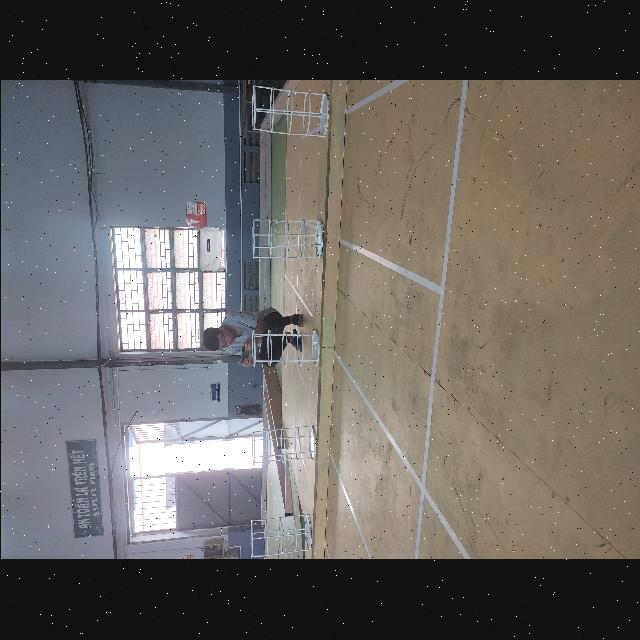S: (248, 85, 330, 139), (250, 218, 324, 260), (248, 514, 312, 560), (250, 424, 316, 468), (252, 329, 320, 367)
